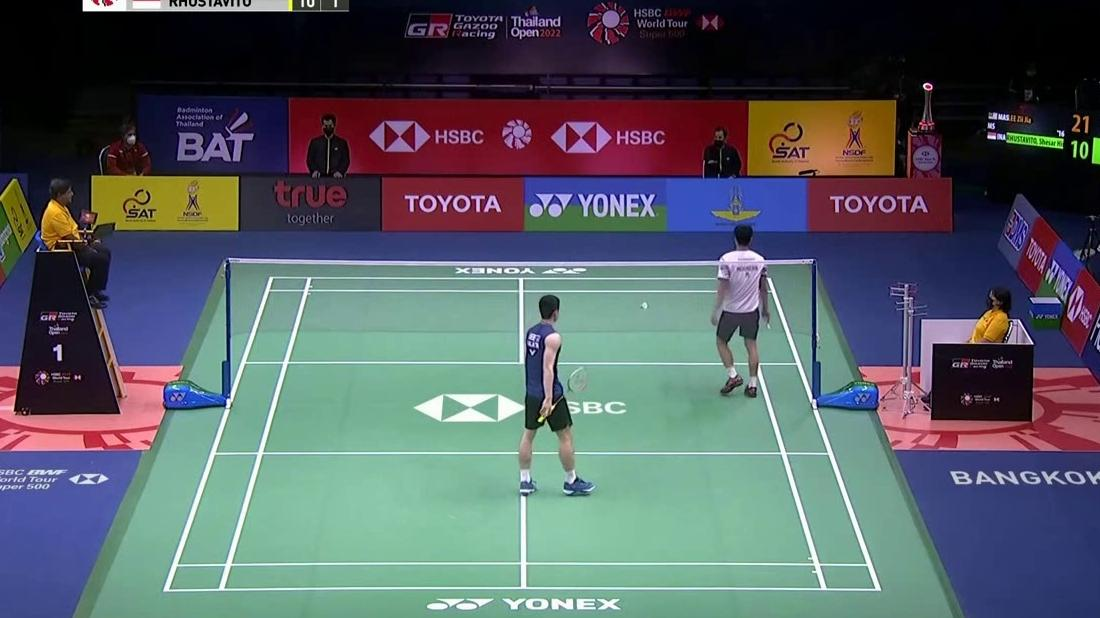racket: (537, 366, 589, 424)
shuttle: (638, 302, 649, 309)
